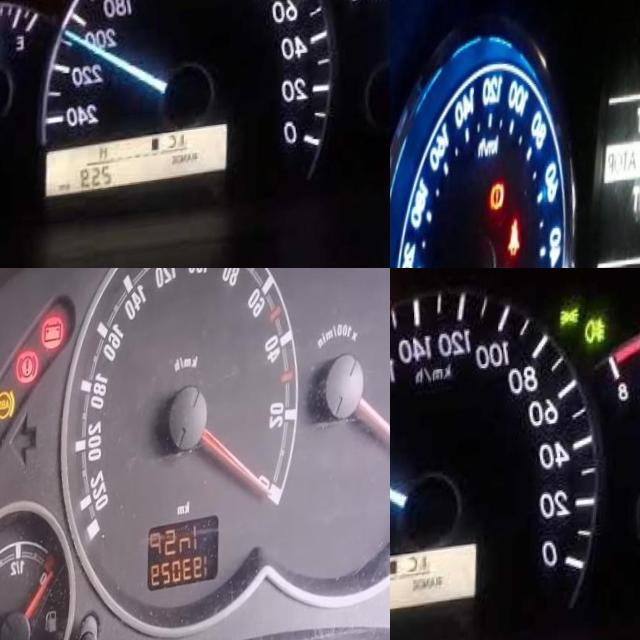Seat Belt: (512, 222, 525, 259)
